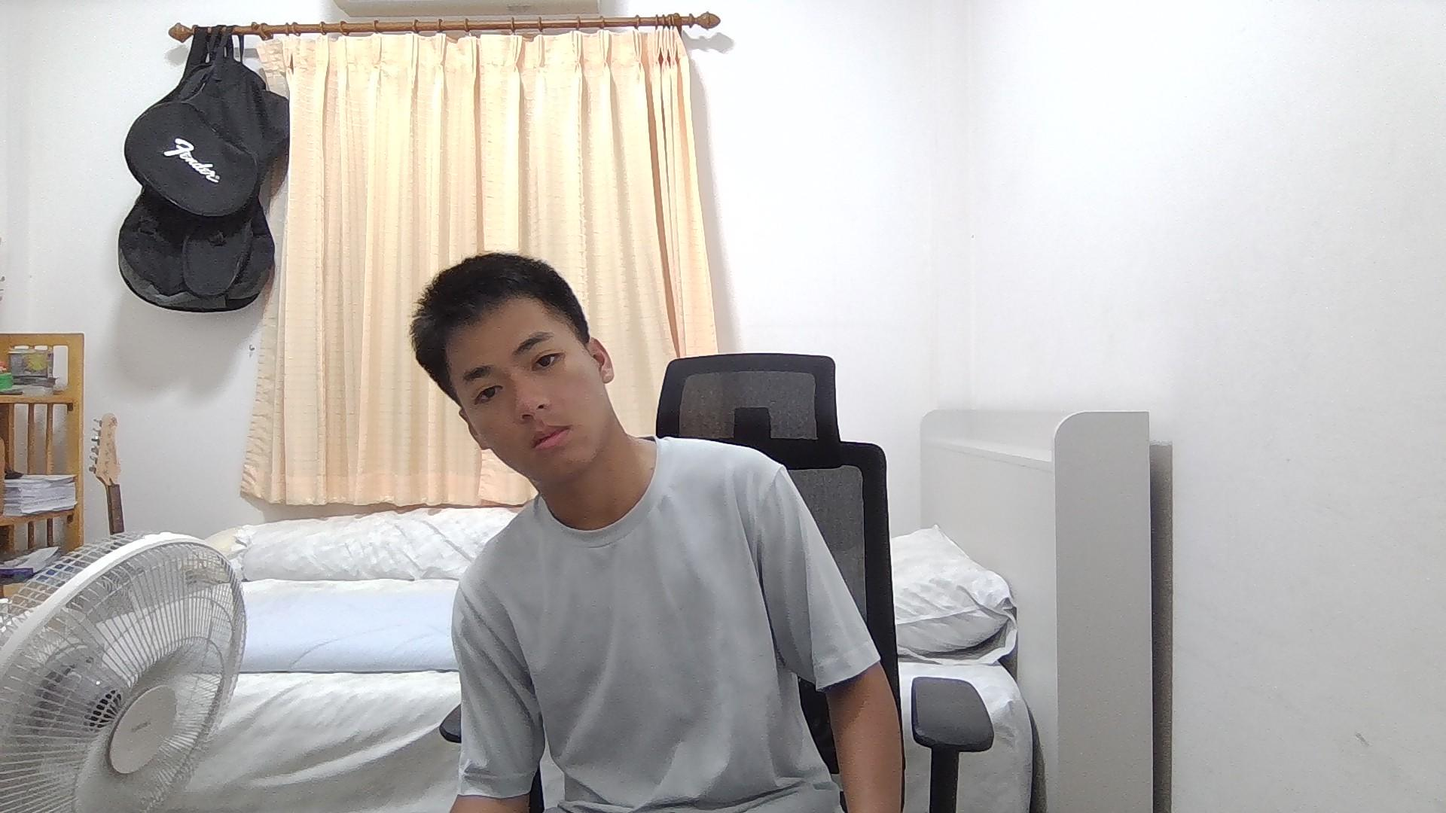BadPosture: (414, 254, 901, 812)
